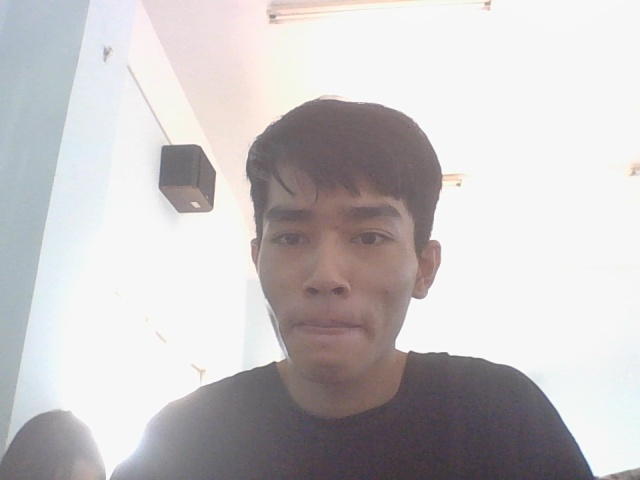real: (229, 80, 454, 399)
